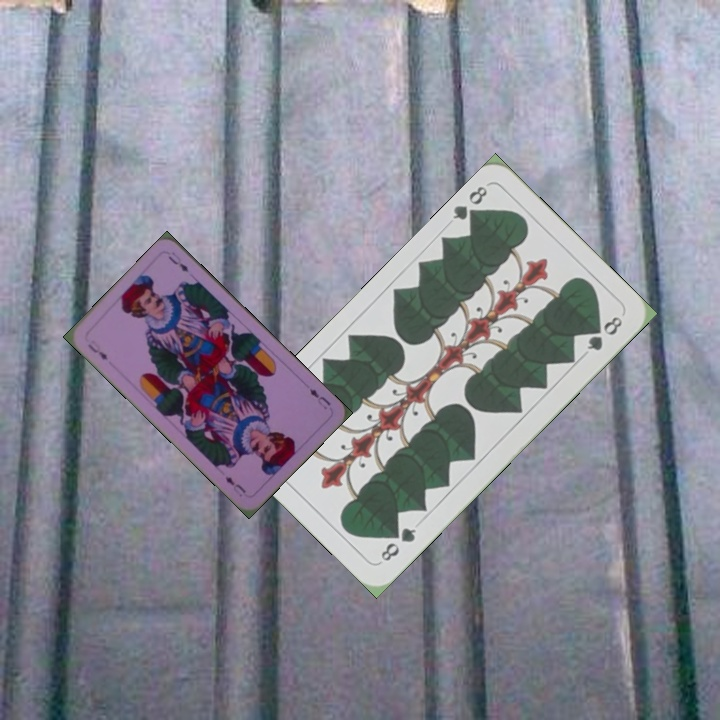EU: (305, 384, 333, 412), (83, 336, 111, 363)
G8: (449, 181, 490, 226), (376, 523, 419, 564)
